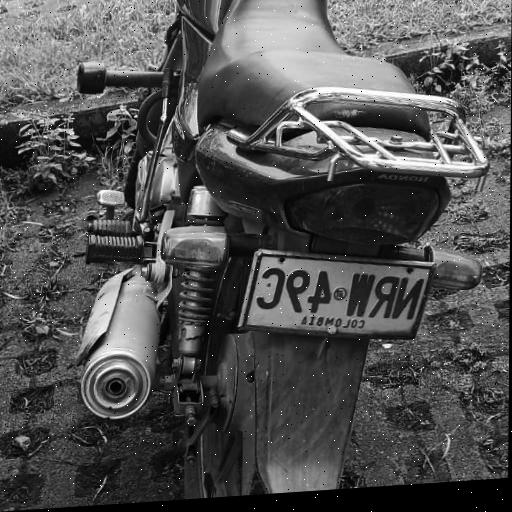placa: (242, 248, 432, 339)
